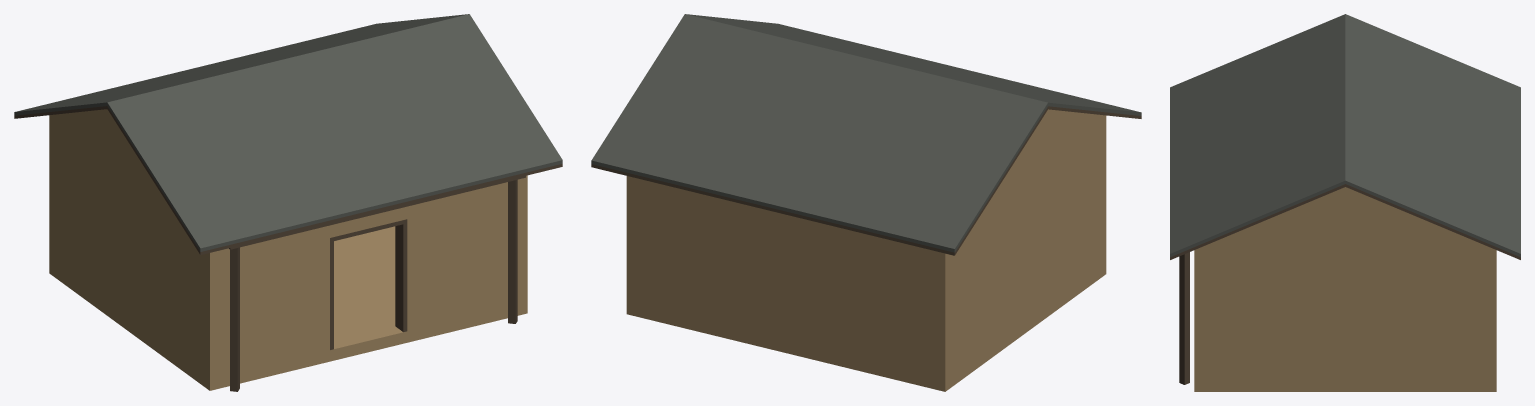
3 renders of one model, left to right at view 1: azimuth 30°, elevation 25°; view 2: azimuth 150°, elevation 25°; view 3: azimuth 270°, elevation 25°, orthographic. The views are drawn at different scales.
Parts seen in each view (by area): view 1: H64__LY_P01_tile, H64__LY_P01_earth, H64__LY_P01_timber; view 2: H64__LY_P01_earth, H64__LY_P01_tile, H64__LY_P01_timber; view 3: H64__LY_P01_tile, H64__LY_P01_earth, H64__LY_P01_timber.
Boxes of the visible parts, left/top/right/bottom form: H64__LY_P01_tile: left=14, top=14, right=562, bottom=251; H64__LY_P01_earth: left=49, top=109, right=527, bottom=390; H64__LY_P01_timber: left=14, top=106, right=562, bottom=391; H64__LY_P01_earth: left=626, top=109, right=1106, bottom=391; H64__LY_P01_tile: left=591, top=14, right=1141, bottom=252; H64__LY_P01_timber: left=591, top=106, right=1141, bottom=255; H64__LY_P01_tile: left=1170, top=14, right=1520, bottom=257; H64__LY_P01_earth: left=1194, top=187, right=1496, bottom=391; H64__LY_P01_timber: left=1170, top=184, right=1520, bottom=384.
Bounding box in the file's own units: 7.3 × 4.53 × 6.5.
